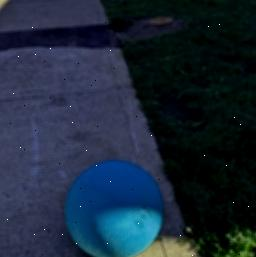algae: (64, 157, 166, 257)
